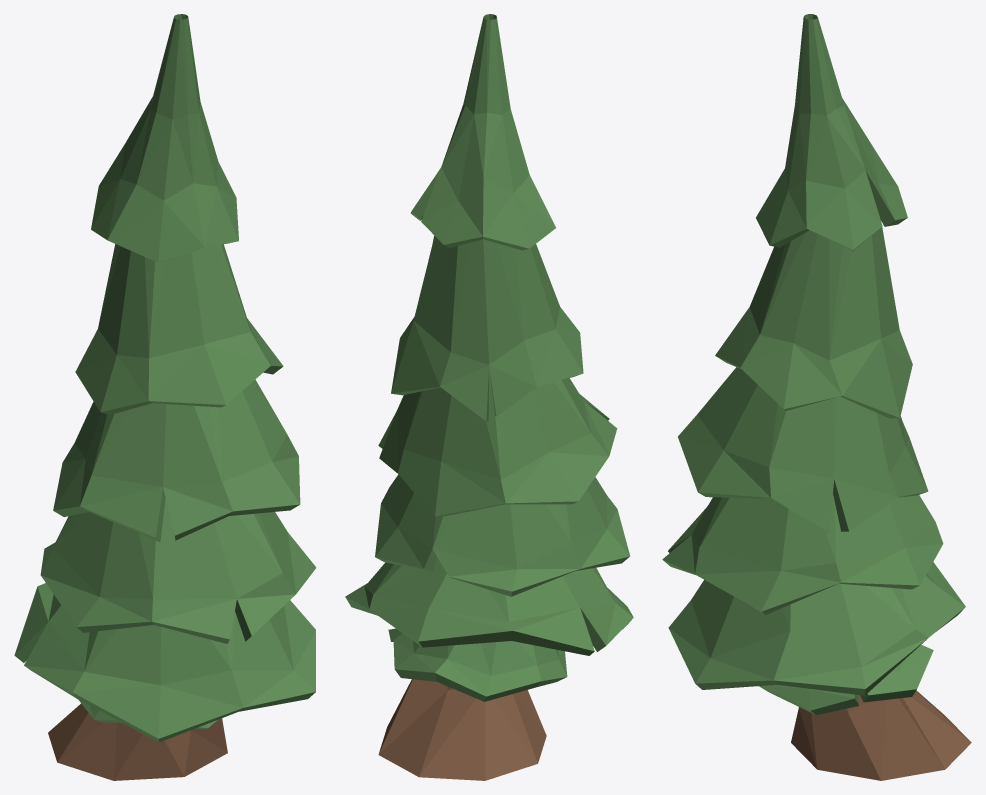
Rendered from A_Arvore1.fbx.
3 views of the same model, side by side, from view 1: azimuth 30°, elevation 25°; view 2: azimuth 150°, elevation 25°; view 3: azimuth 270°, elevation 25° (orthographic). The views are drawn at different scales.
Visible parts, largest first — view 1: Circle; view 2: Circle; view 3: Circle.
Part boxes in pixels (x1,y1,x2,y2): Circle: (14,14,316,780); Circle: (345,14,633,780); Circle: (662,14,971,780).
Size of the model in its own units: 556 by 1491 by 574.
